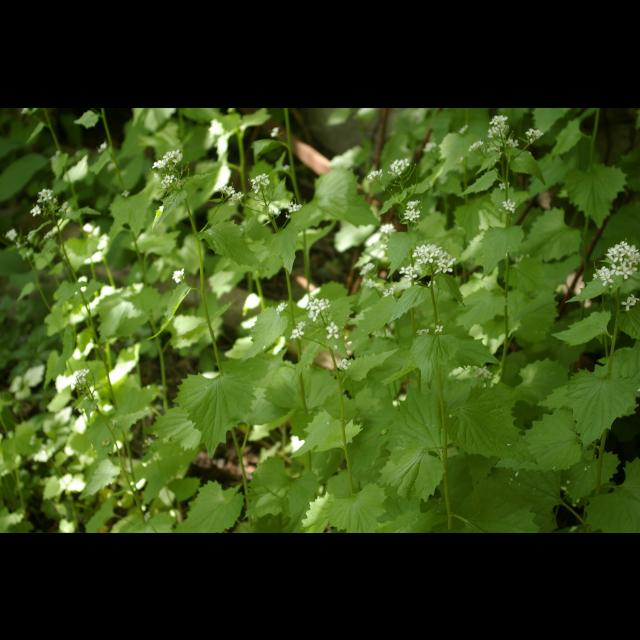Flower: (472, 115, 538, 168), (592, 236, 640, 280), (150, 142, 186, 192), (398, 243, 446, 277)
